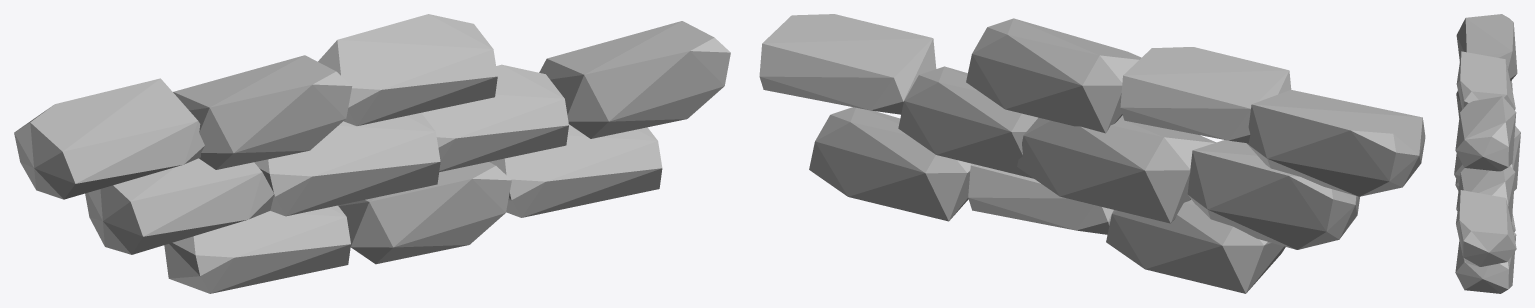
Rendered from stones_017.glb.
3 views of the same model, side by side, from view 1: azimuth 30°, elevation 25°; view 2: azimuth 150°, elevation 25°; view 3: azimuth 270°, elevation 25° (orthographic). The views are drawn at different scales.
Visible parts, largest first — view 1: stones_017; view 2: stones_017; view 3: stones_017.
Boxes of the visible parts, bbox=[...] form: stones_017: bbox=[14, 14, 730, 293]; stones_017: bbox=[759, 14, 1425, 293]; stones_017: bbox=[1454, 14, 1520, 293].
Bounding box in the file's own units: 5.49 × 1.6 × 0.8107.
Materials: 1 (1 with a texture image).
